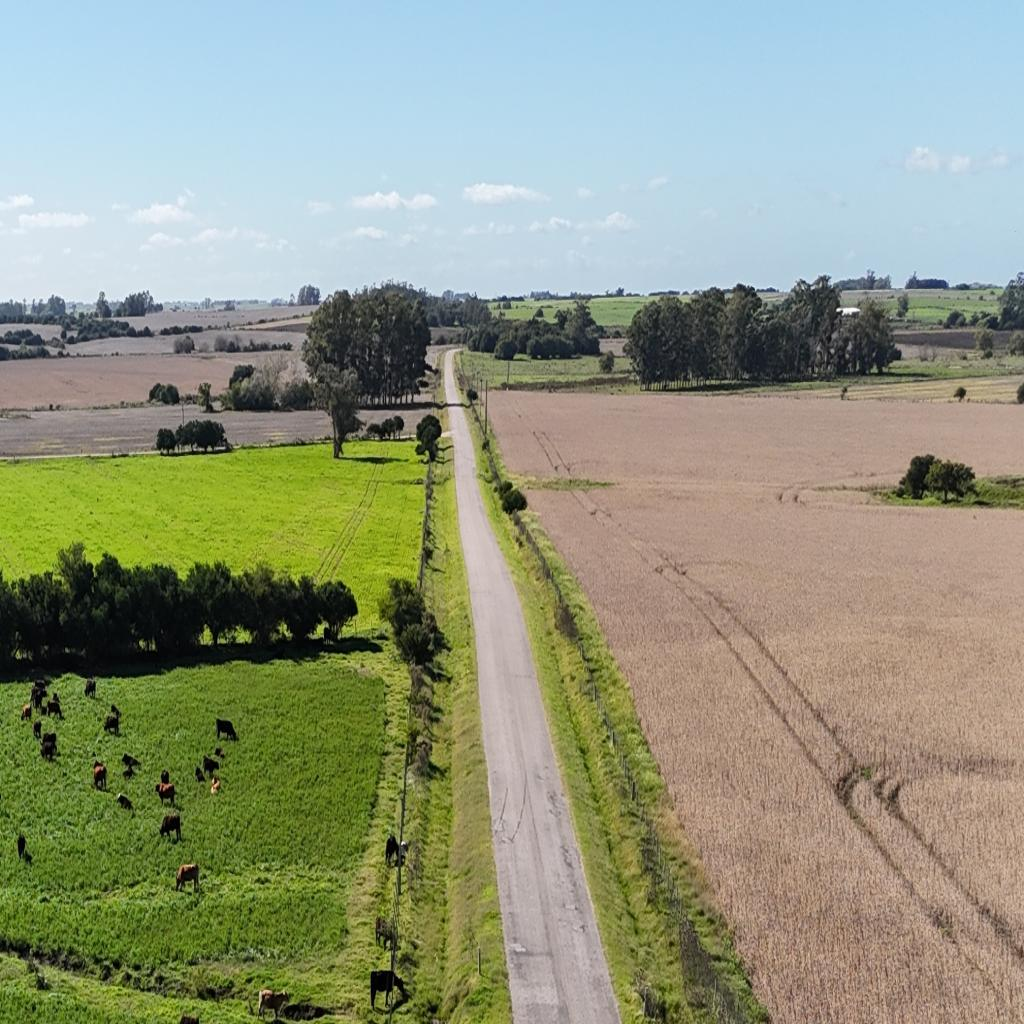cow: (166, 856, 206, 900), (370, 969, 400, 1011), (255, 988, 287, 1023), (158, 812, 182, 843), (375, 915, 395, 950), (104, 699, 122, 733), (215, 718, 237, 742), (155, 782, 176, 807), (30, 684, 48, 712), (385, 834, 399, 867), (121, 754, 141, 777), (40, 732, 57, 759), (202, 756, 220, 778), (45, 697, 63, 719), (93, 762, 107, 790), (116, 793, 133, 811), (397, 840, 408, 865), (322, 626, 335, 645), (85, 679, 96, 699), (178, 1014, 200, 1024), (18, 834, 26, 859), (20, 705, 32, 721), (33, 720, 42, 740), (195, 766, 205, 784), (92, 757, 103, 773), (38, 679, 50, 692), (211, 777, 220, 793), (52, 693, 62, 707), (198, 760, 207, 775), (214, 720, 221, 738), (154, 784, 163, 798), (161, 770, 169, 785), (24, 851, 32, 865), (214, 748, 224, 759)
